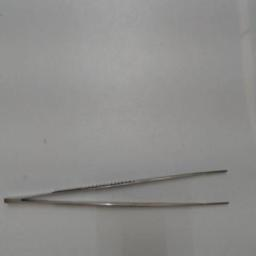DeBakey Dissector: (2, 160, 238, 218)
